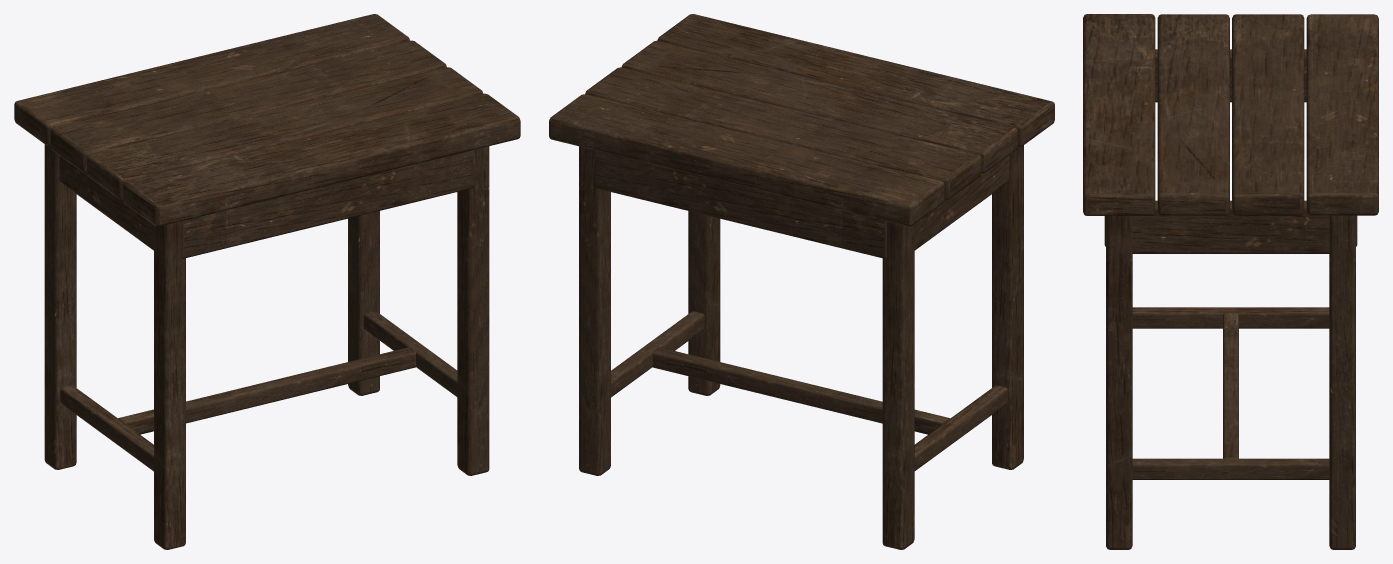
Rendered from PROP_WarmWood_Table_Square.glb.
3 views of the same model, side by side, from view 1: azimuth 30°, elevation 25°; view 2: azimuth 150°, elevation 25°; view 3: azimuth 270°, elevation 25° (orthographic). The views are drawn at different scales.
Parts seen in each view (by area): view 1: PROP_WarmWood_Table_Square; view 2: PROP_WarmWood_Table_Square; view 3: PROP_WarmWood_Table_Square.
Boxes of the visible parts, x1=… form: PROP_WarmWood_Table_Square: x1=14, y1=14, x2=520, y2=549; PROP_WarmWood_Table_Square: x1=549, y1=14, x2=1054, y2=549; PROP_WarmWood_Table_Square: x1=1083, y1=14, x2=1378, y2=549.
Size of the model in its own units: 0.817 by 0.766 by 0.56.
1 material, 1 textured.
